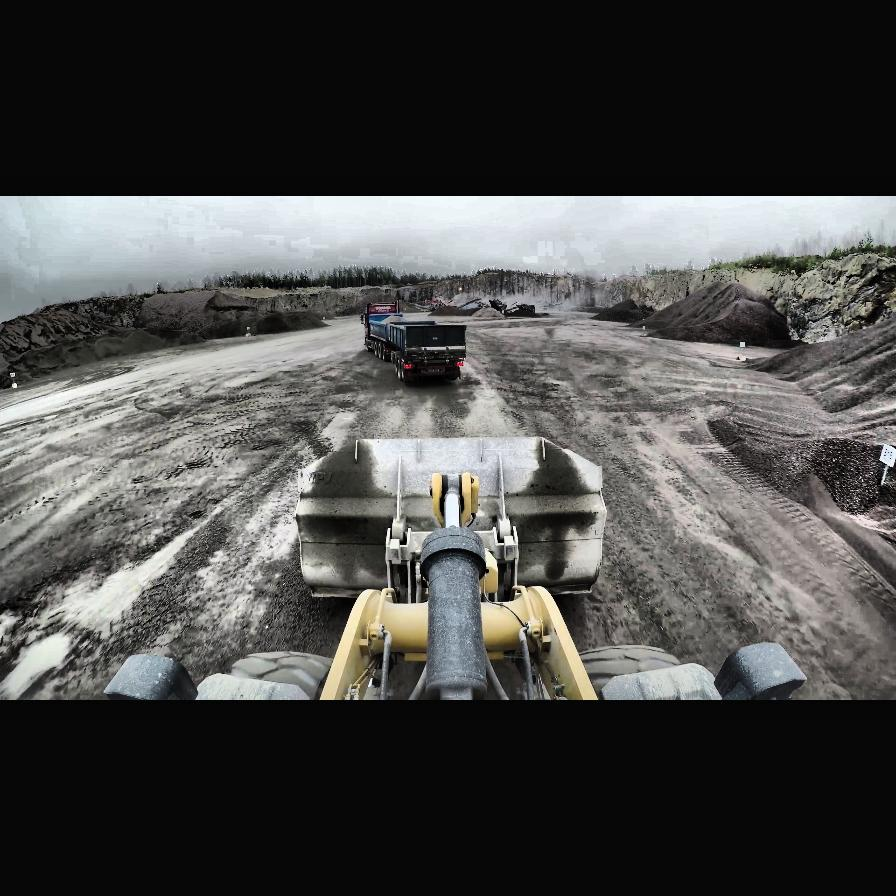anchor: (429, 471, 477, 527)
pile of gravel: (728, 304, 896, 410), (0, 326, 208, 392), (626, 280, 792, 348), (136, 288, 256, 340), (202, 312, 332, 340), (336, 294, 424, 316), (590, 300, 650, 324), (426, 303, 484, 317), (0, 366, 30, 392), (470, 307, 504, 317), (508, 310, 540, 318)
